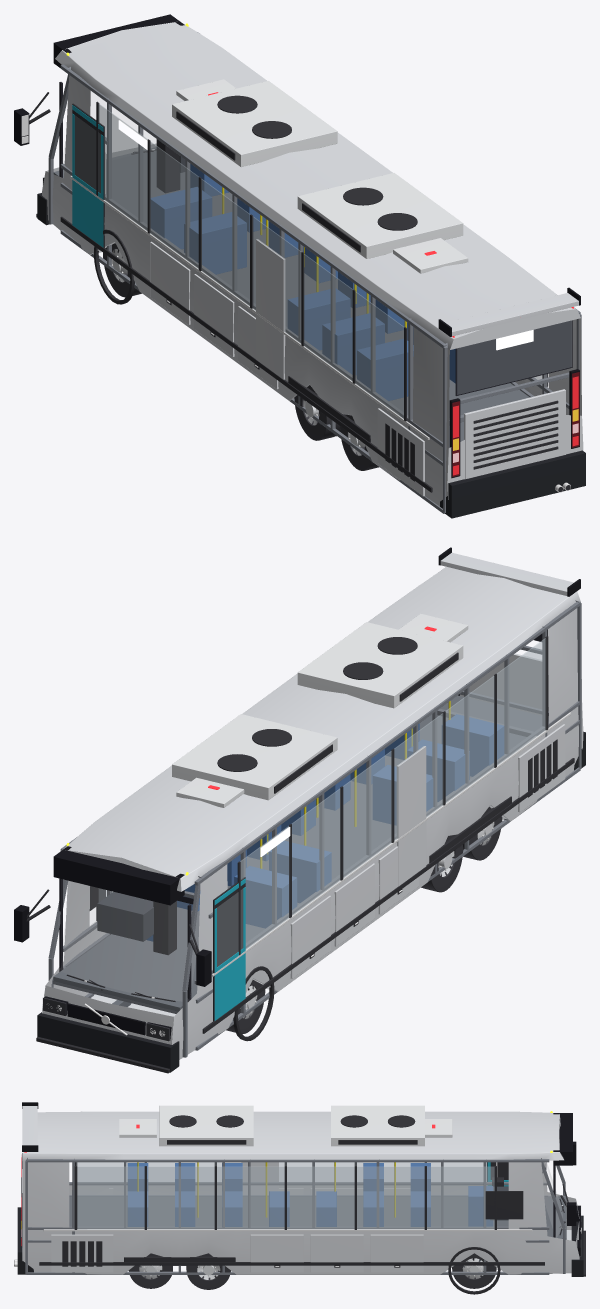
File: complete-bus.glb
3 views of the same model, one above another, from view 1: azimuth 30°, elevation 25°; view 2: azimuth 150°, elevation 25°; view 3: azimuth 270°, elevation 25° (orthographic). The views are drawn at different scales.
Parts seen in each view (by area): view 1: BODY_Coach_Monocoque_Shell, GLASS_Side_Passenger_Ribbon_R, BODY_Roof_HVAC_Unit_Front_Cabin, BODY_Roof_HVAC_Unit_Rear_Cabin, CHASSIS_LowFloor_Passenger_Deck, BODY_Rear_Engine_Compartment_Door, GLASS_Rear_Backlight_Frit_Mask, BODY_Rear_Bumper_Fascia, GLASS_Rear_Backlight_Window, DOOR_Mid_Emergency_Exit_Leaf, INTERIOR_Passenger_Seat_Row_02_R, INTERIOR_Passenger_Seat_Row_07_R (+24 smaller); view 2: BODY_Coach_Monocoque_Shell, GLASS_Side_Passenger_Ribbon_R, CHASSIS_LowFloor_Passenger_Deck, GLASS_Panoramic_Windshield, BODY_Roof_HVAC_Unit_Rear_Cabin, BODY_Roof_HVAC_Unit_Front_Cabin, BODY_Front_Destination_Header_Fairing, DOOR_Mid_Emergency_Exit_Leaf, BODY_Front_Bumper_Fascia, BODY_Rear_Engine_Compartment_Door, INTERIOR_Passenger_Seat_Row_01_R, INTERIOR_Driver_Dashboard_Console (+26 smaller); view 3: BODY_Coach_Monocoque_Shell, GLASS_Side_Passenger_Ribbon_L, CHASSIS_LowFloor_Passenger_Deck, GLASS_Side_Passenger_Ribbon_R, BODY_Roof_HVAC_Unit_Rear_Cabin, BODY_Roof_HVAC_Unit_Front_Cabin, FRAMEWORK_Longitudinal_RoofCantrail_L, BODY_Side_RubStrip_L, BODY_Luggage_Door_L_01, BODY_Luggage_Door_L_02, BODY_Luggage_Door_L_03, BODY_Machinery_Access_Door_L (+43 smaller).
Boxes of the visible parts, x1=… form: BODY_Coach_Monocoque_Shell: x1=42, y1=21, x2=583, y2=506; GLASS_Side_Passenger_Ribbon_R: x1=98, y1=104, x2=403, y2=418; BODY_Roof_HVAC_Unit_Front_Cabin: x1=172, y1=81, x2=337, y2=166; BODY_Roof_HVAC_Unit_Rear_Cabin: x1=297, y1=173, x2=463, y2=258; CHASSIS_LowFloor_Passenger_Deck: x1=53, y1=147, x2=529, y2=447; BODY_Rear_Engine_Compartment_Door: x1=464, y1=389, x2=565, y2=479; GLASS_Rear_Backlight_Frit_Mask: x1=455, y1=320, x2=572, y2=395; BODY_Rear_Bumper_Fascia: x1=440, y1=450, x2=585, y2=518; GLASS_Rear_Backlight_Window: x1=457, y1=320, x2=571, y2=394; DOOR_Mid_Emergency_Exit_Leaf: x1=256, y1=239, x2=285, y2=379; INTERIOR_Passenger_Seat_Row_02_R: x1=184, y1=212, x2=246, y2=274; INTERIOR_Passenger_Seat_Row_07_R: x1=357, y1=338, x2=413, y2=400; BODY_Coach_Monocoque_Shell: x1=42, y1=566, x2=583, y2=1059; GLASS_Side_Passenger_Ribbon_R: x1=240, y1=638, x2=545, y2=949; CHASSIS_LowFloor_Passenger_Deck: x1=53, y1=695, x2=548, y2=1011; GLASS_Panoramic_Windshield: x1=59, y1=882, x2=199, y2=1001; BODY_Roof_HVAC_Unit_Rear_Cabin: x1=297, y1=622, x2=463, y2=708; BODY_Roof_HVAC_Unit_Front_Cabin: x1=172, y1=714, x2=337, y2=800; BODY_Front_Destination_Header_Fairing: x1=53, y1=846, x2=184, y2=905; DOOR_Mid_Emergency_Exit_Leaf: x1=396, y1=746, x2=426, y2=886; BODY_Front_Bumper_Fascia: x1=37, y1=1012, x2=179, y2=1072; BODY_Rear_Engine_Compartment_Door: x1=464, y1=653, x2=548, y2=717; INTERIOR_Passenger_Seat_Row_01_R: x1=234, y1=866, x2=297, y2=928; INTERIOR_Driver_Dashboard_Console: x1=97, y1=891, x2=153, y2=941; BODY_Coach_Monocoque_Shell: x1=22, y1=1111, x2=579, y2=1274; GLASS_Side_Passenger_Ribbon_L: x1=77, y1=1166, x2=494, y2=1229; CHASSIS_LowFloor_Passenger_Deck: x1=69, y1=1196, x2=566, y2=1239; GLASS_Side_Passenger_Ribbon_R: x1=76, y1=1162, x2=486, y2=1181; BODY_Roof_HVAC_Unit_Rear_Cabin: x1=159, y1=1105, x2=253, y2=1146; BODY_Roof_HVAC_Unit_Front_Cabin: x1=331, y1=1105, x2=424, y2=1146; FRAMEWORK_Longitudinal_RoofCantrail_L: x1=26, y1=1159, x2=549, y2=1162; BODY_Side_RubStrip_L: x1=39, y1=1262, x2=544, y2=1265; BODY_Luggage_Door_L_01: x1=370, y1=1234, x2=423, y2=1272; BODY_Luggage_Door_L_02: x1=310, y1=1234, x2=363, y2=1272; BODY_Luggage_Door_L_03: x1=250, y1=1234, x2=303, y2=1272; BODY_Machinery_Access_Door_L: x1=51, y1=1234, x2=113, y2=1272.
Bounding box in the file's own units: 3.51 × 3.86 × 13.35.
